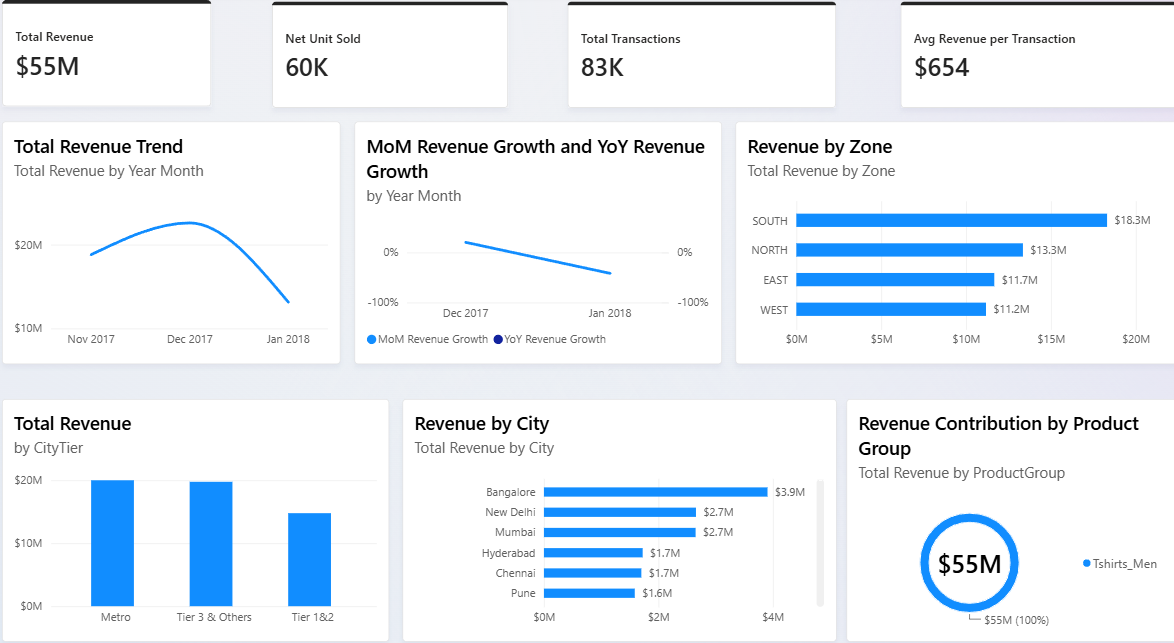

Layout of this report page (visuals, bound fields, positions):
{"tool":"powerbi","page":{"name":"Revenue Performance","canvas":[1280,720],"ordinal":0},"visuals":[{"type":"cardVisual","fields":{"Data":["Sales Raw.Total Revenue"]},"box":[10,0,226.7,115],"z":0},{"type":"cardVisual","fields":{"Data":["Sales Raw.Net Unit Sold"]},"box":[301.7,1.7,255,115],"z":1000},{"type":"cardVisual","fields":{"Data":["Sales Raw.Total Transactions"]},"box":[620,1.7,290,115],"z":2000},{"type":"cardVisual","fields":{"Data":["Sales Raw.Avg Revenue per Transaction"]},"box":[980,1.7,300,115],"z":3000},{"type":"lineChart","title":"Total  Revenue Trend","fields":{"Y":["Sales Raw.Total Revenue"],"Category":["DateTable.Year Month"]},"box":[10,131.7,365,261.7],"z":4000},{"type":"clusteredBarChart","title":" Revenue by Zone","fields":{"Category":["PinCode-Geo.Zone"],"Y":["Sales Raw.Total Revenue"]},"box":[801.7,131.7,478.3,261.7],"z":5000},{"type":"clusteredColumnChart","fields":{"Category":["CityTier.CityTier"],"Y":["Sales Raw.Total Revenue"]},"box":[10,430,418,262],"z":6000},{"type":"barChart","title":" Revenue by City","fields":{"Category":["PinCode-Geo.City"],"Y":["Sales Raw.Total Revenue"]},"box":[441.7,430,468.3,261.7],"z":7000},{"type":"donutChart","title":"Revenue Contribution by Product Group","fields":{"Category":["ProductMap.ProductGroup"],"Y":["Sales Raw.Total Revenue"]},"box":[921.7,430,358.3,261.7],"z":8000},{"type":"lineChart","fields":{"Category":["DateTable.Year Month"],"Y":["Sales Raw.MoM Revenue Growth"],"Y2":["Sales Raw.YoY Revenue Growth"]},"box":[390,131.7,396.7,261.7],"z":9000}]}

Visuals, with their boxes in screenshot pixels (x1, y1, x2, y2), scaled from the page's 1280x720 canvas onto the 1174x643 screenshot:
cardVisual - Sales Raw.Total Revenue: box(9, 0, 217, 103)
cardVisual - Sales Raw.Net Unit Sold: box(277, 2, 511, 104)
cardVisual - Sales Raw.Total Transactions: box(569, 2, 835, 104)
cardVisual - Sales Raw.Avg Revenue per Transaction: box(899, 2, 1173, 104)
"Total  Revenue Trend" lineChart: box(9, 118, 344, 351)
" Revenue by Zone" clusteredBarChart: box(735, 118, 1173, 351)
clusteredColumnChart - CityTier.CityTier x Sales Raw.Total Revenue: box(9, 384, 393, 618)
" Revenue by City" barChart: box(405, 384, 835, 618)
"Revenue Contribution by Product Group" donutChart: box(845, 384, 1173, 618)
lineChart - DateTable.Year Month x Sales Raw.MoM Revenue Growth: box(358, 118, 722, 351)
